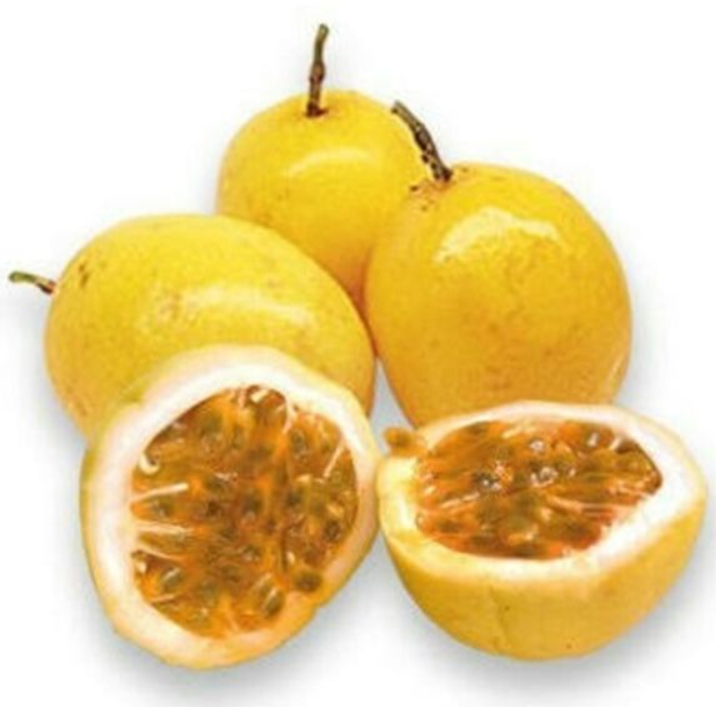maracuya: (361, 147, 639, 450)
